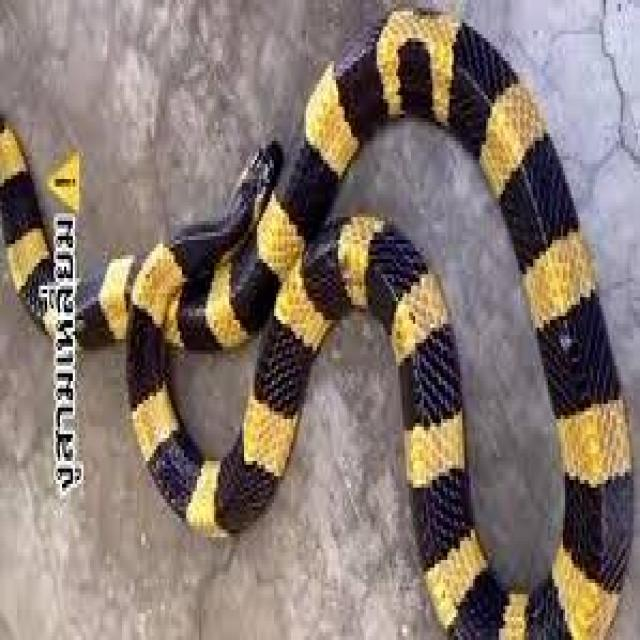Venomous: (180, 178, 312, 374)
